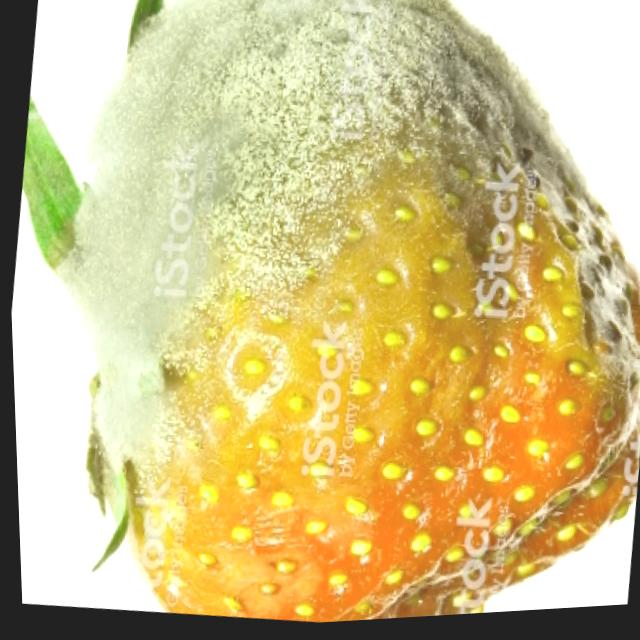Gray Mold: (57, 0, 640, 571)
